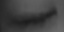LeftEyeFatigue: (5, 3, 61, 32)
